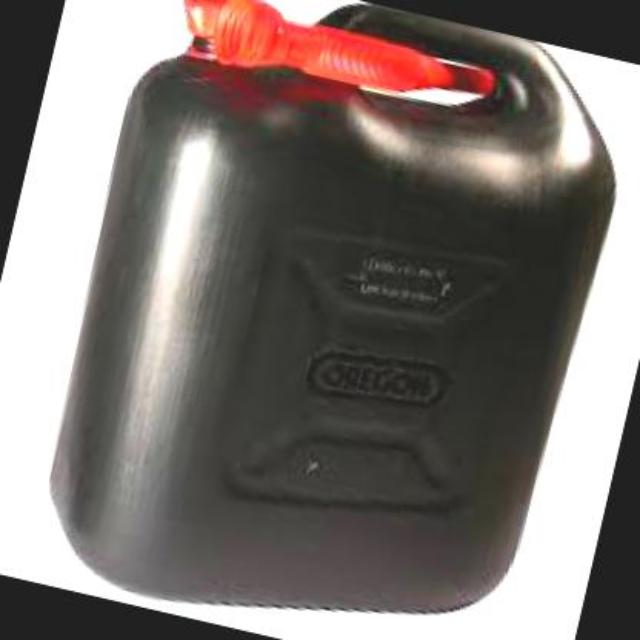chemical_plastic_gallon: (9, 0, 638, 638)
